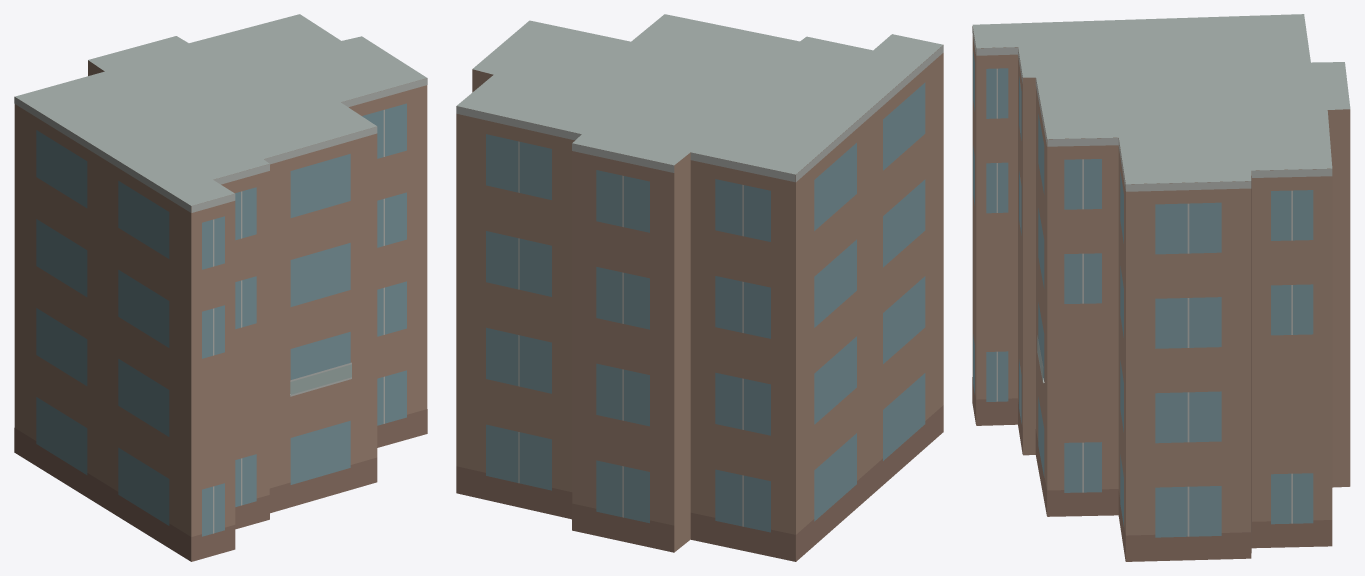
The model's file is survey-upis-32584525.glb.
The picture shows the model from 3 angles, left to right: view 1: azimuth 30°, elevation 25°; view 2: azimuth 150°, elevation 25°; view 3: azimuth 270°, elevation 25°; orthographic projection. The views are drawn at different scales.
Parts seen in each view (by area): view 1: survey-upis-32584525.tmp; view 2: survey-upis-32584525.tmp; view 3: survey-upis-32584525.tmp.
Part boxes in pixels (<box>): survey-upis-32584525.tmp: <box>14,14,427,561</box>; survey-upis-32584525.tmp: <box>456,14,943,561</box>; survey-upis-32584525.tmp: <box>972,14,1350,561</box>.
Size of the model in its own units: 11.81 by 12.2 by 11.08.
